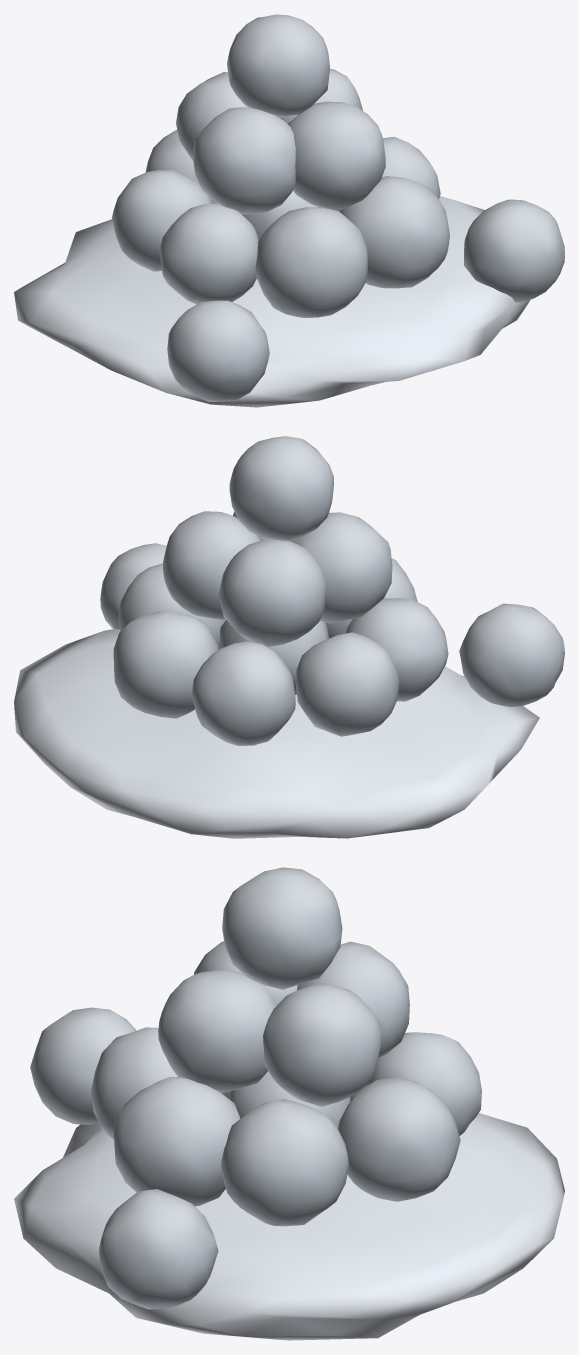
The model's file is snowball_pile.glb.
3 renders of one model, top to bottom at view 1: azimuth 30°, elevation 25°; view 2: azimuth 150°, elevation 25°; view 3: azimuth 270°, elevation 25°, orthographic. The views are drawn at different scales.
Parts seen in each view (by area): view 1: loose; view 2: loose; view 3: loose.
Part boxes in pixels (box(x1,y1,x2,y2)): loose: box(14, 14, 564, 407); loose: box(14, 436, 564, 838); loose: box(14, 867, 564, 1340).
Bounding box in the file's own units: 0.9372 × 0.632 × 0.8375.
1 material, 1 textured.
